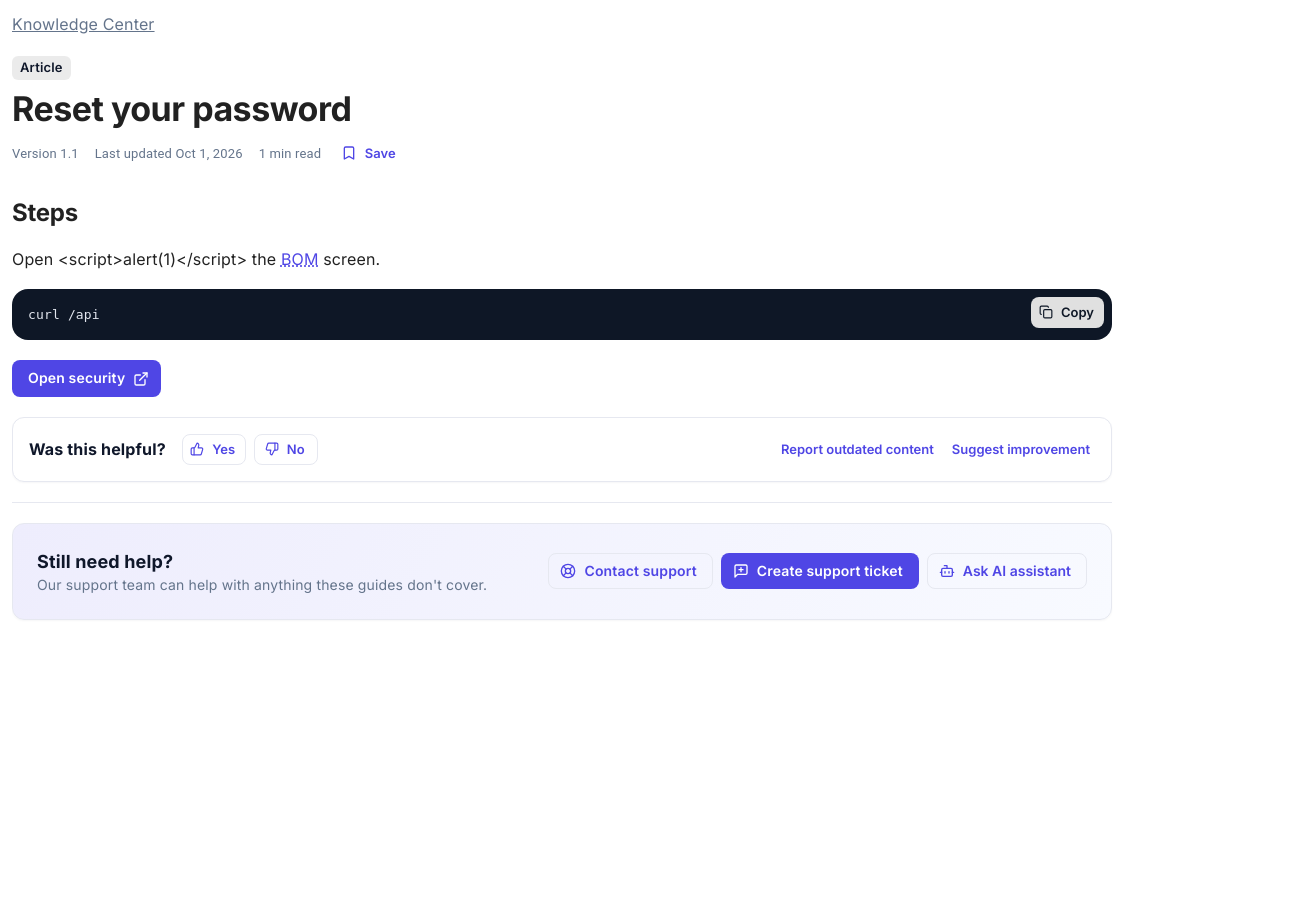
Knowledge Center › sends a No vote only with a reason
This screenshot has width=1292, height=912.
Click the button "No": x=286, y=449 [254,434,318,465]
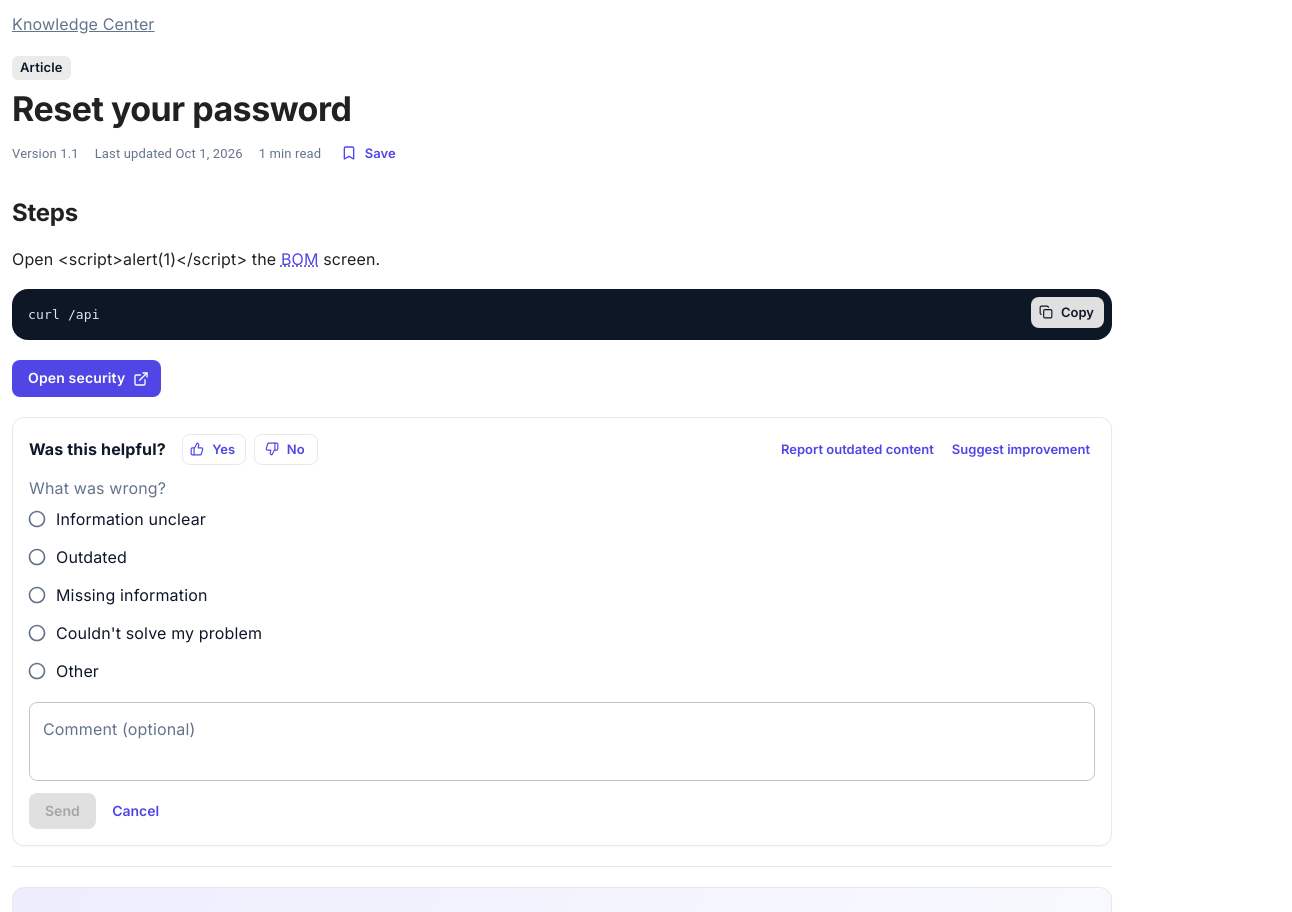
Now the button "Send" is disabled, box [29,792,96,829]
Click the radio button labelled "Outdated": x=77, y=556 [27,546,127,566]
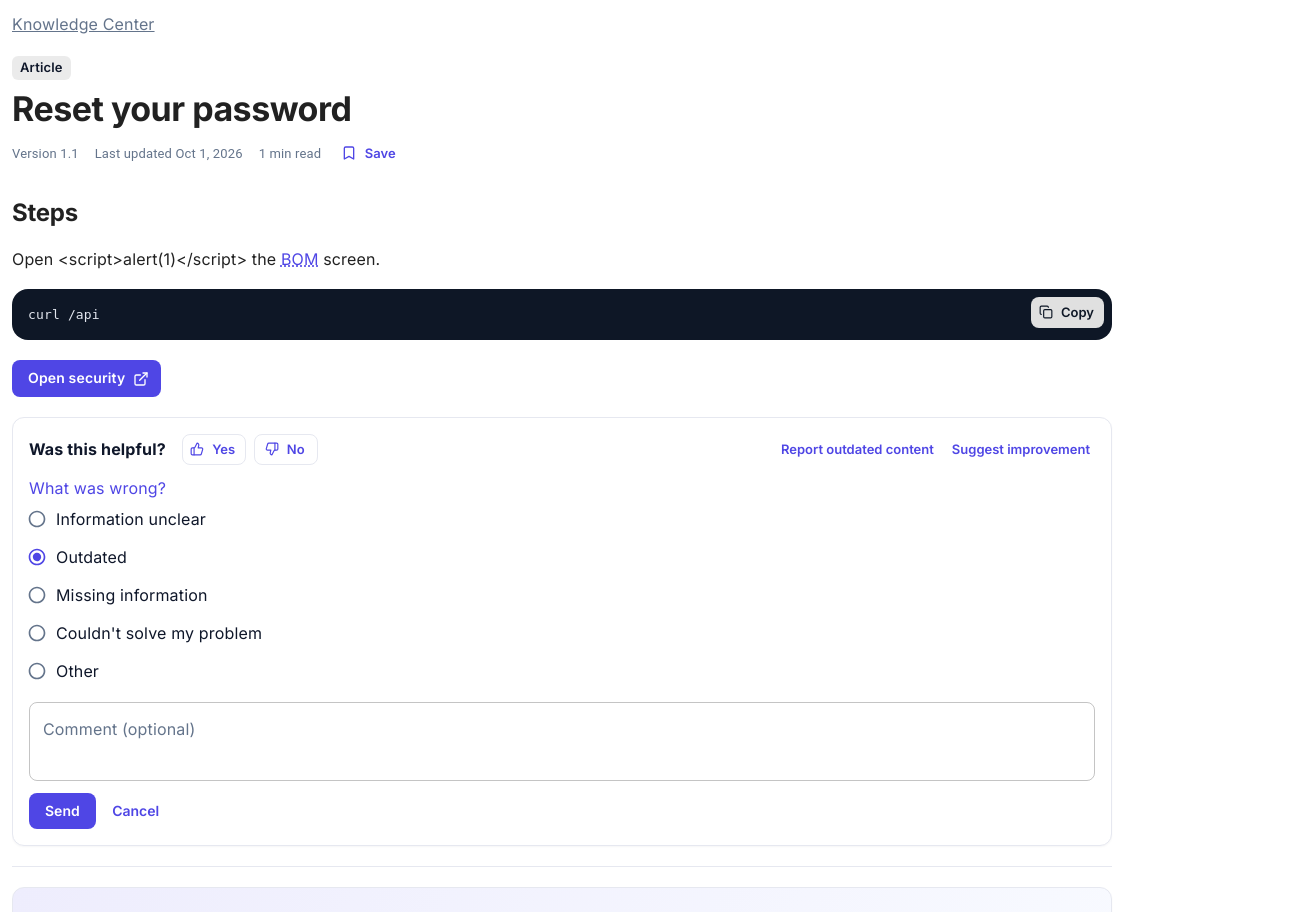
Click the button "Send": x=62, y=811 [29,792,96,829]
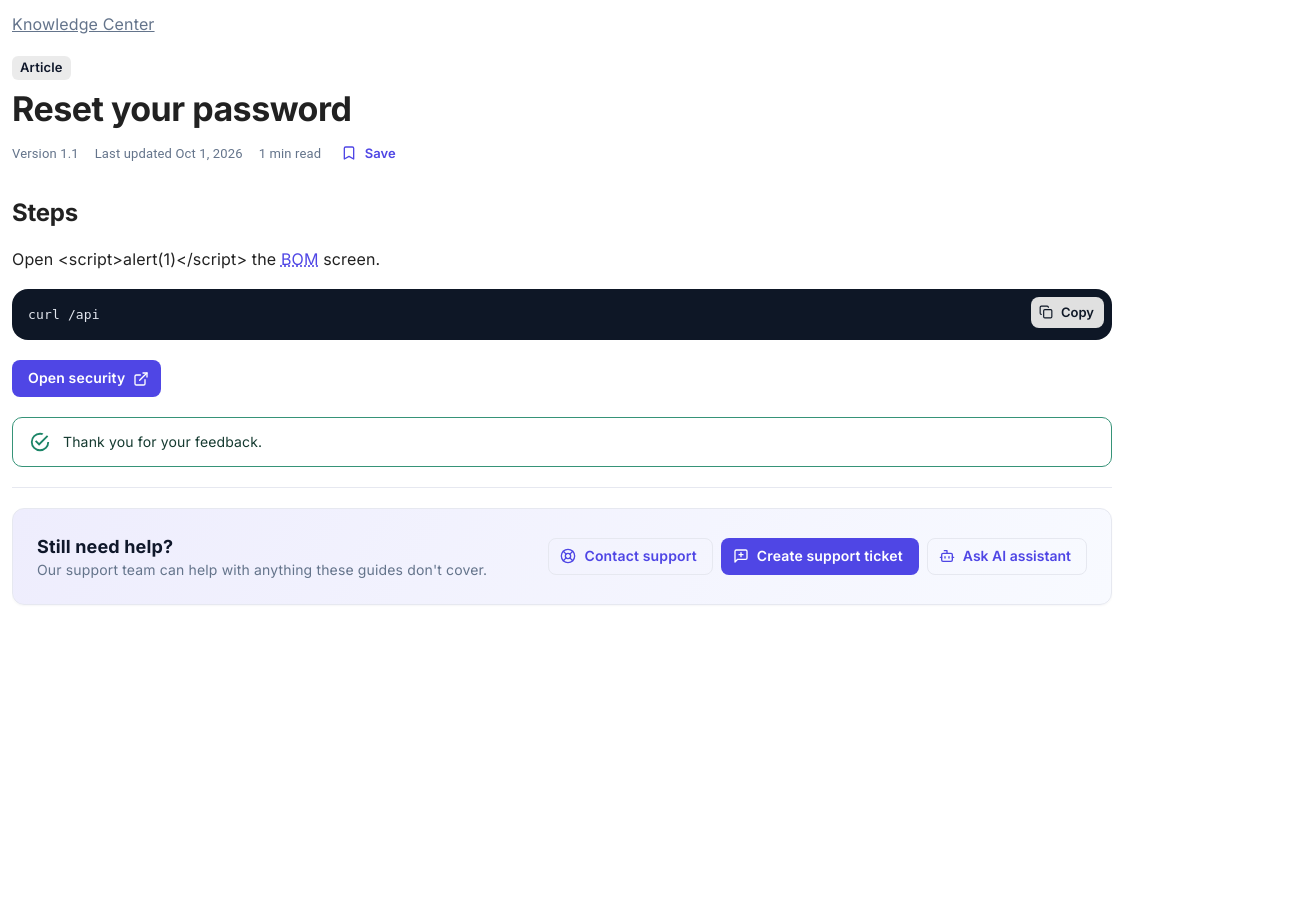
Now the text "Thank you for your feedback." is shown, box [63,433,262,450]
